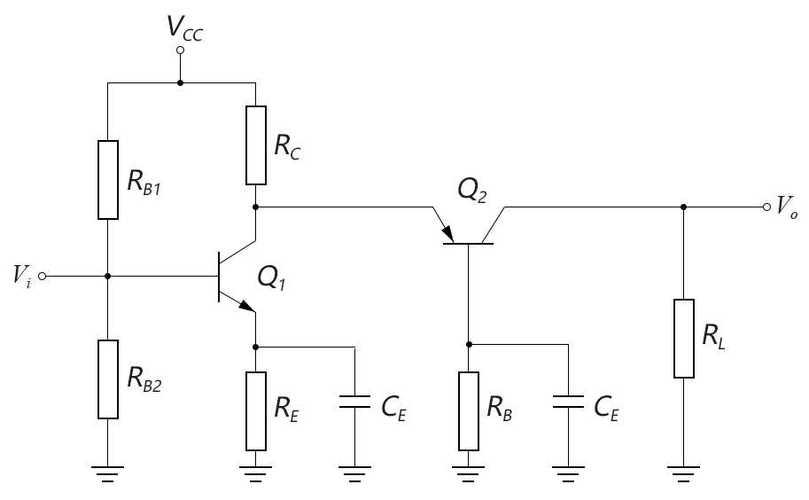cap1: (334, 386, 374, 415), (549, 388, 589, 415)
gnd: (85, 460, 130, 488), (334, 463, 375, 486), (548, 462, 589, 485), (664, 463, 704, 486), (449, 464, 489, 485), (237, 463, 275, 485)
res1: (92, 337, 121, 421), (94, 137, 122, 223), (454, 368, 481, 457), (242, 103, 270, 188), (671, 296, 697, 383), (243, 368, 269, 454)
triode: (426, 198, 510, 254), (214, 233, 261, 317)
